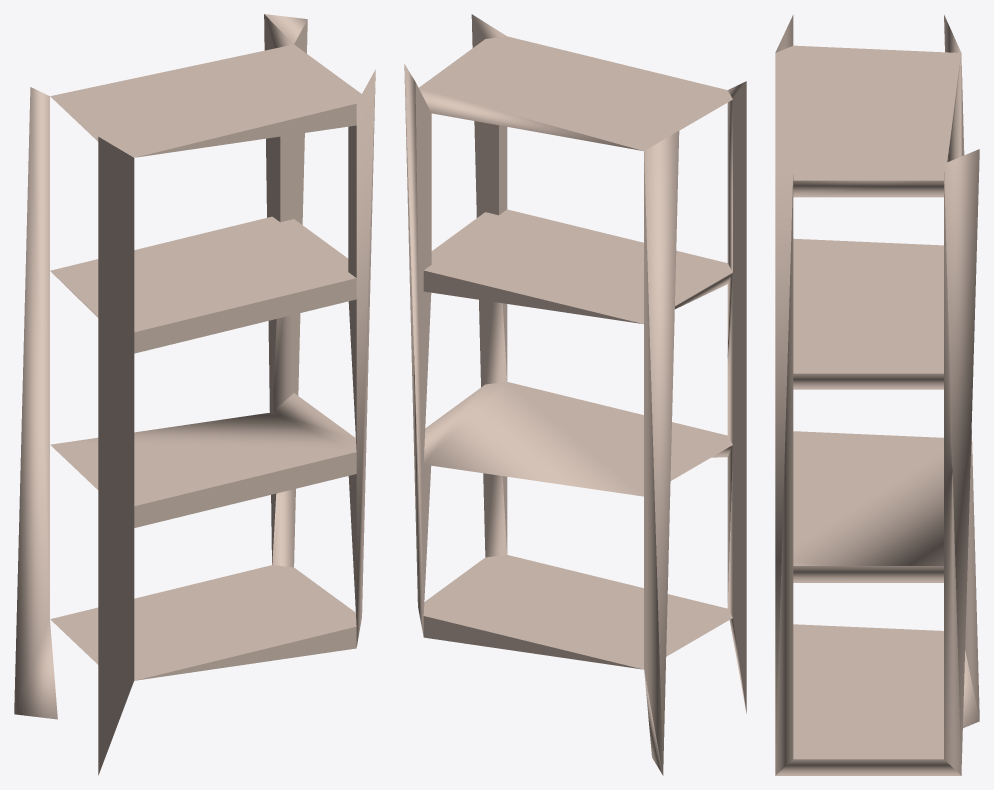
Rendered from bookcaseOpen.glb.
The picture shows the model from 3 angles, left to right: view 1: azimuth 30°, elevation 25°; view 2: azimuth 150°, elevation 25°; view 3: azimuth 270°, elevation 25°; orthographic projection. The views are drawn at different scales.
Parts seen in each view (by area): view 1: bookcaseOpen(Clone); view 2: bookcaseOpen(Clone); view 3: bookcaseOpen(Clone).
Part boxes in pixels (<box>): bookcaseOpen(Clone): <box>14,14,375,775</box>; bookcaseOpen(Clone): <box>404,14,746,775</box>; bookcaseOpen(Clone): <box>775,15,979,775</box>.
Size of the model in its own units: 0.3995 by 0.88 by 0.2307.
